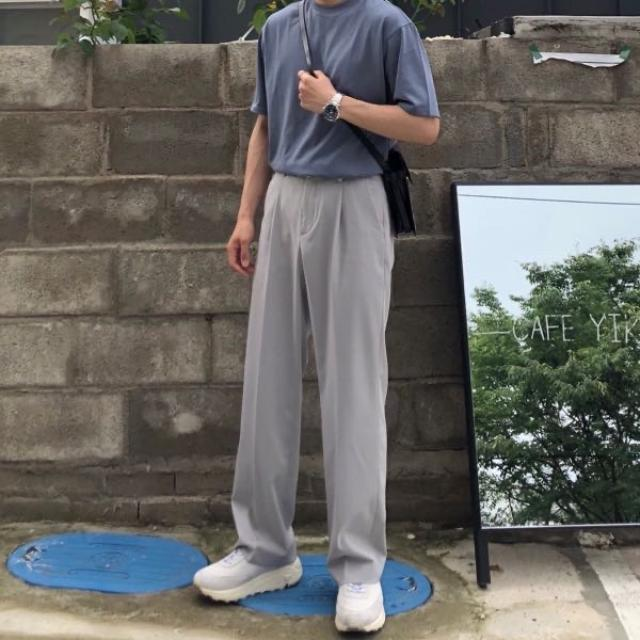shortsleeve: (246, 4, 438, 182)
slacks: (232, 170, 396, 585)
